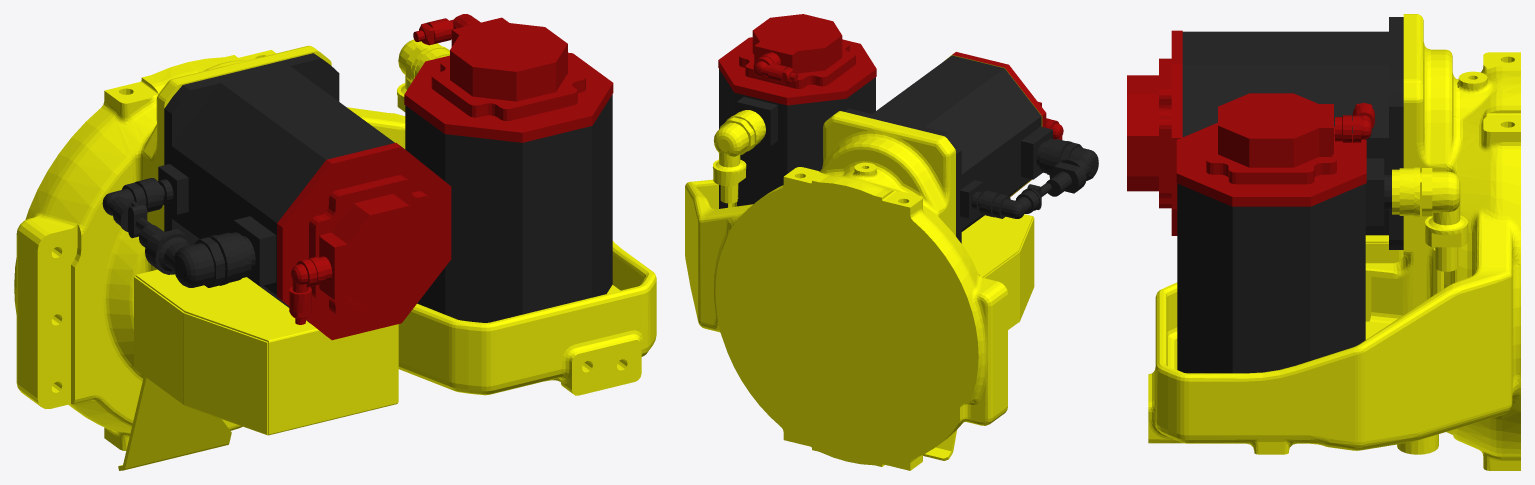
3 views of the same model, side by side, from view 1: azimuth 30°, elevation 25°; view 2: azimuth 150°, elevation 25°; view 3: azimuth 270°, elevation 25° (orthographic). The views are drawn at different scales.
Parts seen in each view (by area): view 1: node; view 2: node; view 3: node.
Part boxes in pixels (box(x1,y1,x2,y2)): node: box(14, 14, 656, 470); node: box(685, 14, 1098, 470); node: box(1127, 14, 1520, 470).
Bounding box in the file's own units: 371 × 316 × 272.
